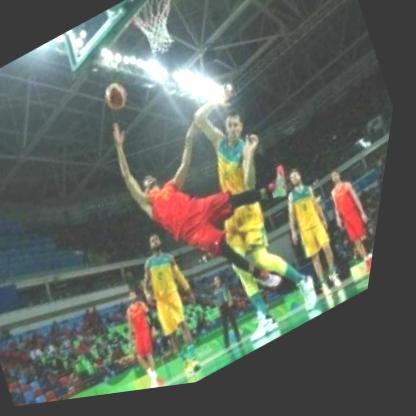basketball: (102, 79, 137, 118)
